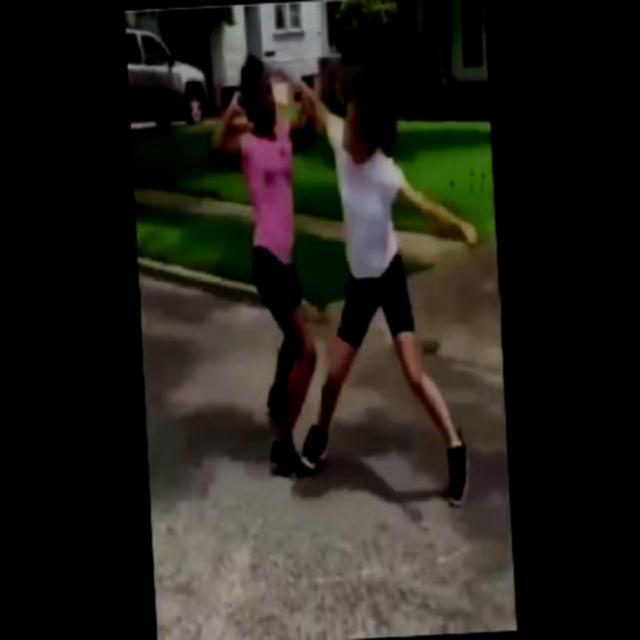fight: (206, 46, 488, 516)
